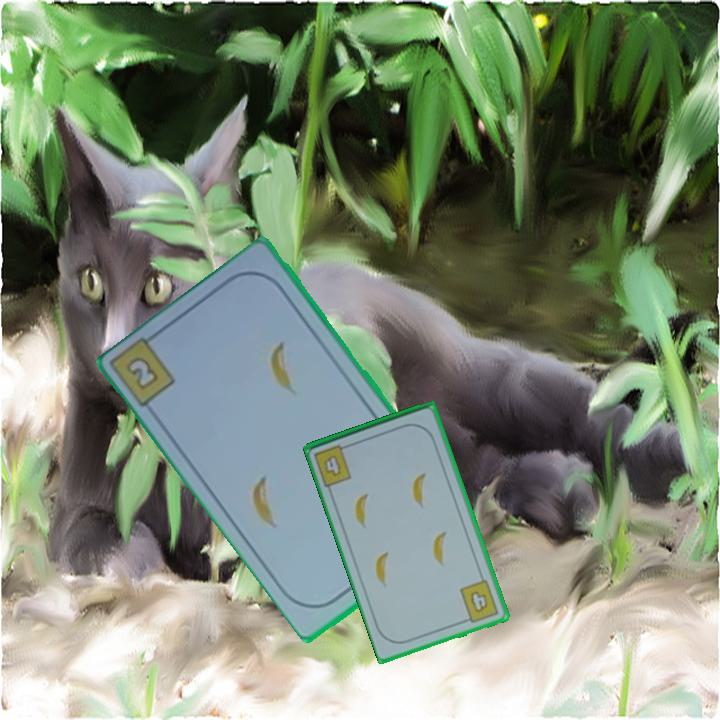2b: (123, 352, 163, 393)
4b: (456, 576, 502, 626), (310, 441, 355, 489)
